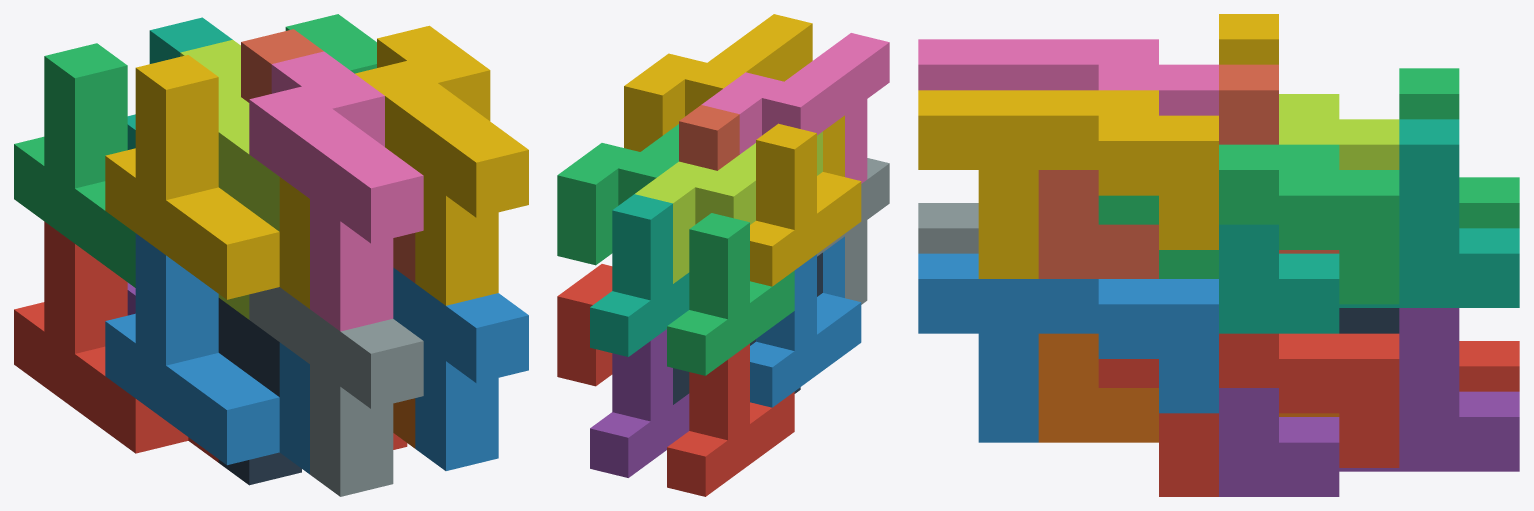
The model's file is tiling.obj.
3 renders of one model, left to right at view 1: azimuth 30°, elevation 25°; view 2: azimuth 150°, elevation 25°; view 3: azimuth 270°, elevation 25°, orthographic. The views are drawn at different scales.
Visible parts, largest first — view 1: copy_2_domain_4, copy_1_domain_4, copy_2_domain_8, copy_1_domain_2, copy_2_domain_2, copy_1_domain_3, copy_1_domain_1, copy_2_domain_6, copy_2_domain_3, copy_2_domain_1, copy_1_domain_8, copy_2_domain_7 (+2 smaller); view 2: copy_1_domain_4, copy_2_domain_4, copy_1_domain_3, copy_2_domain_8, copy_1_domain_1, copy_1_domain_7, copy_1_domain_2, copy_1_domain_5, copy_2_domain_7, copy_2_domain_3, copy_2_domain_5, copy_1_domain_8 (+2 smaller); view 3: copy_2_domain_8, copy_2_domain_6, copy_1_domain_7, copy_1_domain_5, copy_2_domain_5, copy_2_domain_7, copy_2_domain_4, copy_1_domain_8, copy_1_domain_6, copy_1_domain_3, copy_2_domain_3, copy_1_domain_1 (+3 smaller).
Boxes of the visible parts, x1=… form: copy_2_domain_4: x1=249, y1=51, x2=423, y2=331; copy_1_domain_4: x1=105, y1=55, x2=309, y2=308; copy_2_domain_8: x1=355, y1=25, x2=528, y2=305; copy_1_domain_2: x1=105, y1=233, x2=309, y2=474; copy_2_domain_2: x1=249, y1=287, x2=423, y2=496; copy_1_domain_3: x1=14, y1=43, x2=135, y2=287; copy_1_domain_1: x1=14, y1=221, x2=218, y2=462; copy_2_domain_6: x1=393, y1=267, x2=528, y2=470; copy_2_domain_3: x1=180, y1=39, x2=279, y2=319; copy_2_domain_1: x1=218, y1=298, x2=301, y2=485; copy_1_domain_8: x1=241, y1=29, x2=415, y2=282; copy_2_domain_7: x1=285, y1=14, x2=376, y2=73; copy_1_domain_4: x1=750, y1=115, x2=861, y2=286; copy_2_domain_4: x1=701, y1=33, x2=889, y2=183; copy_1_domain_3: x1=667, y1=213, x2=794, y2=375; copy_2_domain_8: x1=624, y1=14, x2=812, y2=151; copy_1_domain_1: x1=667, y1=343, x2=794, y2=496; copy_1_domain_7: x1=590, y1=194, x2=689, y2=356; copy_1_domain_2: x1=750, y1=236, x2=861, y2=407; copy_1_domain_5: x1=590, y1=329, x2=689, y2=477; copy_2_domain_7: x1=557, y1=124, x2=678, y2=265; copy_2_domain_3: x1=635, y1=131, x2=822, y2=283; copy_2_domain_5: x1=557, y1=264, x2=612, y2=386; copy_1_domain_8: x1=679, y1=105, x2=739, y2=170; copy_2_domain_8: x1=918, y1=90, x2=1218, y2=278; copy_2_domain_6: x1=918, y1=253, x2=1218, y2=442; copy_1_domain_7: x1=1219, y1=119, x2=1519, y2=333; copy_1_domain_5: x1=1219, y1=308, x2=1519, y2=496; copy_2_domain_5: x1=1098, y1=333, x2=1399, y2=496; copy_2_domain_7: x1=1098, y1=144, x2=1399, y2=304; copy_2_domain_4: x1=918, y1=39, x2=1218, y2=115; copy_1_domain_8: x1=1038, y1=64, x2=1339, y2=278; copy_1_domain_6: x1=1038, y1=333, x2=1339, y2=442; copy_1_domain_3: x1=1399, y1=68, x2=1519, y2=228; copy_2_domain_3: x1=1279, y1=94, x2=1399, y2=169; copy_1_domain_1: x1=1459, y1=341, x2=1519, y2=391.
Size of the model in its own units: 5 by 7 by 10.
